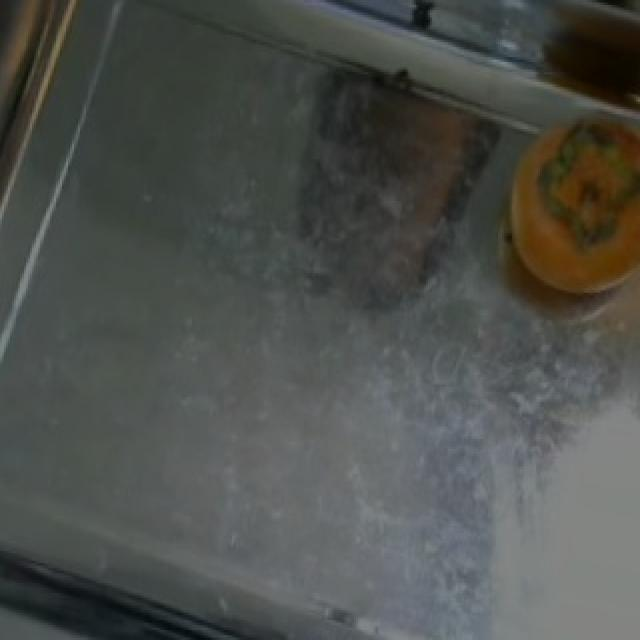Fruit: (480, 97, 640, 322)
